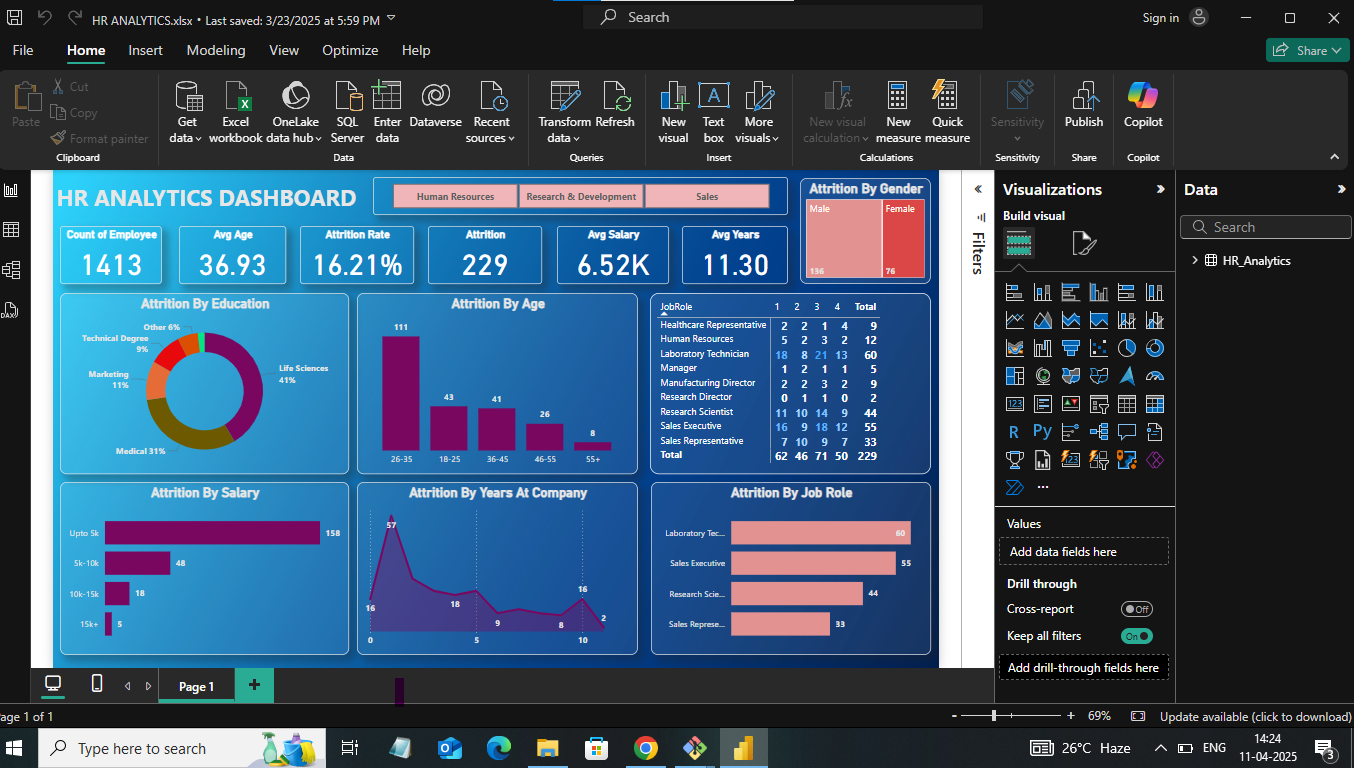

The dashboard page shown, as its layout file describes it:
{"tool":"powerbi","page":{"name":"Page 1","canvas":[1280,720],"ordinal":0},"visuals":[{"type":"card","title":"Count  of Employee","fields":{"Values":["CountNonNull(HR_Analytics.EmpID)"]},"box":[10.1,81,147.5,83.9],"z":0},{"type":"card","title":"Avg Age","fields":{"Values":["Avg(HR_Analytics.Age)"]},"box":[182.2,81,154.7,83.9],"z":1000},{"type":"card","title":"Attrition Rate","fields":{"Values":["HR_Analytics.AttritionRate"]},"box":[357.1,81,164.8,83.9],"z":2000},{"type":"card","title":"Attrition","fields":{"Values":["Sum(HR_Analytics.AttritionCount)"]},"box":[542.2,81,164.8,83.9],"z":3000},{"type":"card","title":"Avg Salary","fields":{"Values":["Avg(HR_Analytics.MonthlyIncome)"]},"box":[728.7,81,161.9,83.9],"z":4000},{"type":"card","title":"Avg Years","fields":{"Values":["Avg(HR_Analytics.TotalWorkingYears)"]},"box":[909.4,81,153.3,83.9],"z":5000},{"type":"donutChart","title":"Attrition By Education","fields":{"Category":["HR_Analytics.EducationField"],"Y":["CountNonNull(HR_Analytics.Attrition)"]},"box":[10.1,177.8,417.8,261.7],"z":6000},{"type":"columnChart","title":"Attrition By Age","fields":{"Category":["HR_Analytics.AgeGroup"],"Y":["Sum(HR_Analytics.AttritionCount)"]},"box":[439.5,177.8,406.3,261.7],"z":7000},{"type":"pivotTable","fields":{"Rows":["HR_Analytics.JobRole"],"Columns":["HR_Analytics.JobSatisfaction"],"Values":["Sum(HR_Analytics.AttritionCount)"]},"box":[863.1,177.8,406.3,261.7],"z":8000},{"type":"barChart","title":"Attrition By Salary","fields":{"Category":["HR_Analytics.SalarySlab"],"Y":["Sum(HR_Analytics.AttritionCount)"]},"box":[10.1,451.1,417.8,250.1],"z":9000},{"type":"barChart","title":"Attrition By Job Role","fields":{"Y":["Sum(HR_Analytics.AttritionCount)"],"Category":["HR_Analytics.JobRole"]},"box":[864.6,451.1,404.8,250.1],"z":10000},{"type":"areaChart","title":"Attrition By Years At Company ","fields":{"Category":["HR_Analytics.YearsAtCompany"],"Y":["Sum(HR_Analytics.AttritionCount)"]},"box":[439.5,451.1,406.3,250.1],"z":11000},{"type":"treemap","title":"Attrition By Gender","fields":{"Group":["HR_Analytics.Gender"],"Values":["Sum(HR_Analytics.AttritionCount)"]},"box":[1080,11.6,189.4,153.3],"z":12000},{"type":"slicer","fields":{"Values":["HR_Analytics.Department"]},"box":[462.7,10.1,600,54.9],"z":13000},{"type":"textbox","box":[0,11.6,497.3,53.5],"z":14000}]}

Visuals, with their boxes on the page's 1280x720 design canvas (x1, y1, x2, y2). These are canvas units, not pixel positions in the 1354x768 screenshot, which may show the page scaled, cropped or inside an application window:
"Count  of Employee" card: bbox(10, 81, 158, 165)
"Avg Age" card: bbox(182, 81, 337, 165)
"Attrition Rate" card: bbox(357, 81, 522, 165)
"Attrition" card: bbox(542, 81, 707, 165)
"Avg Salary" card: bbox(729, 81, 891, 165)
"Avg Years" card: bbox(909, 81, 1063, 165)
"Attrition By Education" donutChart: bbox(10, 178, 428, 440)
"Attrition By Age" columnChart: bbox(440, 178, 846, 440)
pivotTable - HR_Analytics.JobRole x HR_Analytics.JobSatisfaction: bbox(863, 178, 1269, 440)
"Attrition By Salary" barChart: bbox(10, 451, 428, 701)
"Attrition By Job Role" barChart: bbox(865, 451, 1269, 701)
"Attrition By Years At Company " areaChart: bbox(440, 451, 846, 701)
"Attrition By Gender" treemap: bbox(1080, 12, 1269, 165)
slicer - HR_Analytics.Department: bbox(463, 10, 1063, 65)
textbox: bbox(0, 12, 497, 65)
